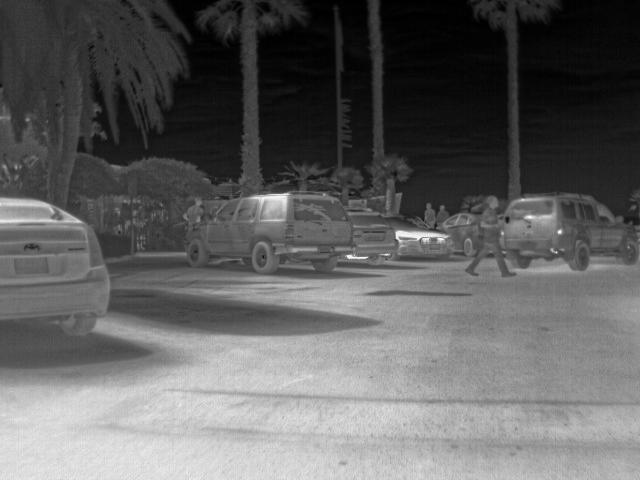car: (1, 196, 112, 340), (185, 190, 356, 275), (503, 193, 639, 271), (347, 207, 399, 264), (395, 216, 455, 258), (439, 211, 481, 254)
person: (463, 192, 516, 277), (188, 195, 205, 224), (423, 201, 436, 227), (437, 201, 449, 222)
